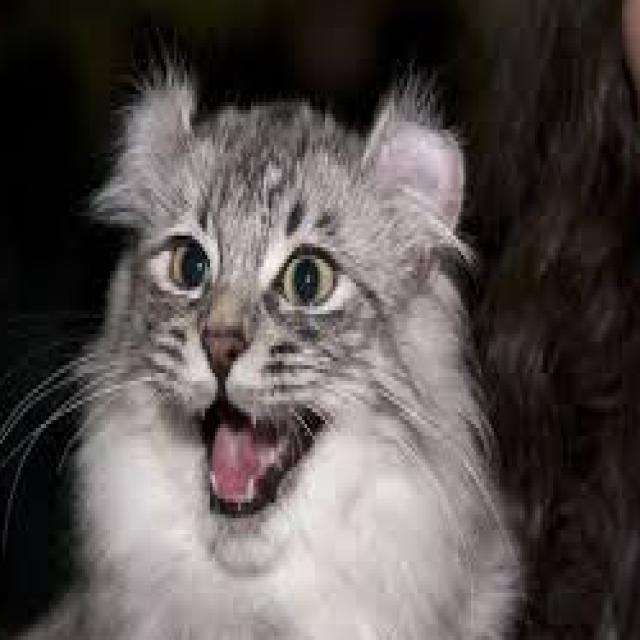American Curl: (64, 27, 622, 640)
